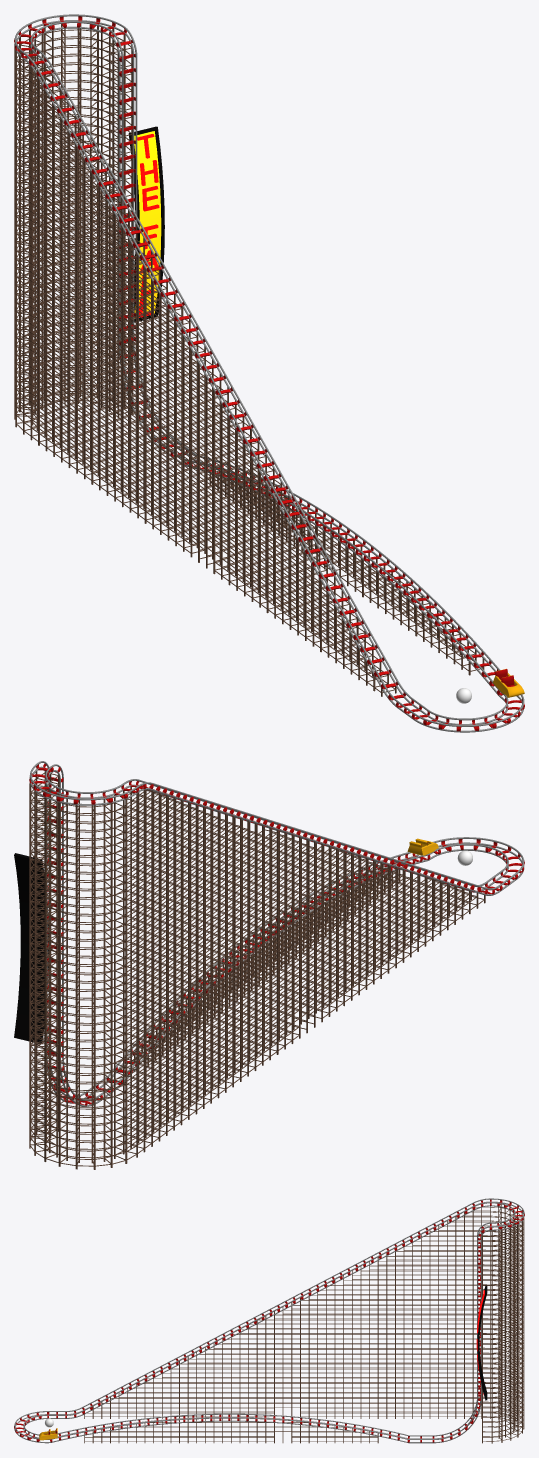
File: TheFallfbx.fbx
3 renders of one model, top to bottom at view 1: azimuth 30°, elevation 25°; view 2: azimuth 150°, elevation 25°; view 3: azimuth 270°, elevation 25°, orthographic. The views are drawn at different scales.
Parts seen in each view (by area): view 1: Metales_1, object 4, object 5, Cartel Fondo_8, Cartel_9, Textos_10; view 2: Metales_1, object 4, object 5, Cartel_9; view 3: Metales_1, object 4, object 5, Cartel_9.
Boxes of the visible parts, left/top/right/bottom form: Metales_1: left=14, top=24, right=484, bottom=696; object 4: left=14, top=14, right=524, bottom=732; object 5: left=14, top=16, right=524, bottom=731; Cartel Fondo_8: left=134, top=131, right=161, bottom=318; Cartel_9: left=128, top=126, right=164, bottom=322; Textos_10: left=137, top=134, right=159, bottom=317; Metales_1: left=29, top=771, right=485, bottom=1169; object 4: left=29, top=761, right=524, bottom=1106; object 5: left=29, top=763, right=524, bottom=1105; Cartel_9: left=14, top=853, right=48, bottom=1043; Metales_1: left=84, top=1204, right=524, bottom=1443; object 4: left=14, top=1198, right=524, bottom=1443; object 5: left=14, top=1199, right=524, bottom=1442; Cartel_9: left=477, top=1285, right=487, bottom=1400.
Bounding box in the file's own units: 952 × 2652 × 5670.
